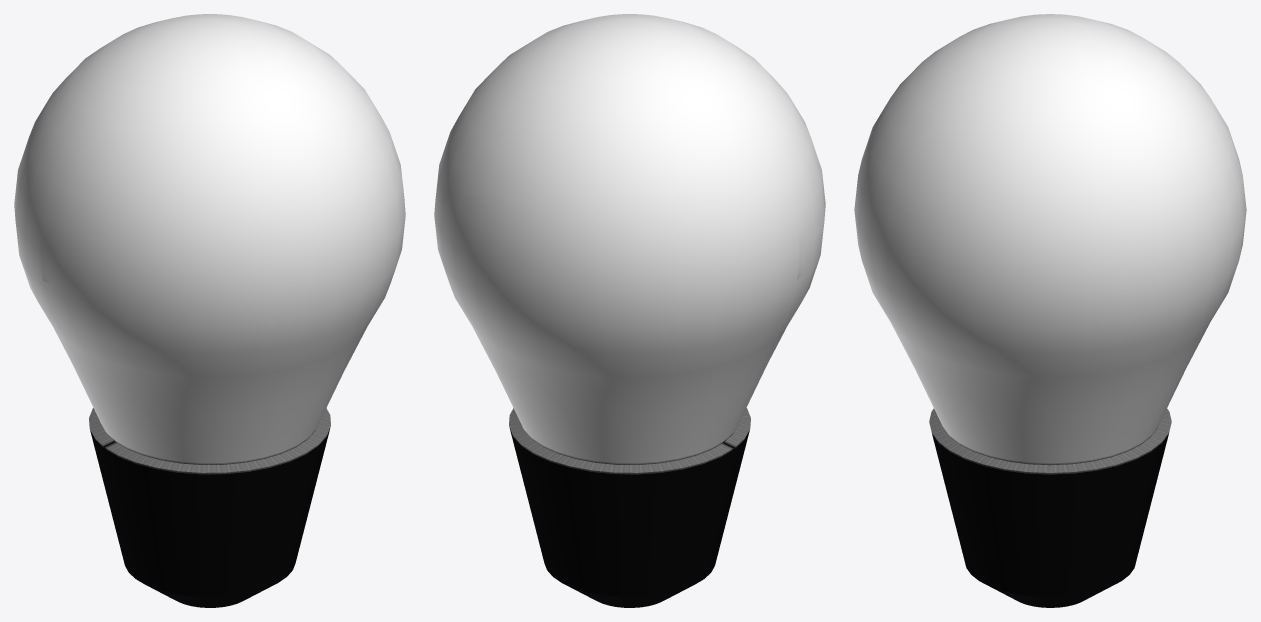
The model's file is bulb.fbx.
3 renders of one model, left to right at view 1: azimuth 30°, elevation 25°; view 2: azimuth 150°, elevation 25°; view 3: azimuth 270°, elevation 25°, orthographic.
Visible parts, largest first — view 1: Sphere; view 2: Sphere; view 3: Sphere.
Part boxes in pixels (x1=…): Sphere: x1=14, y1=14, x2=405, y2=607; Sphere: x1=434, y1=14, x2=825, y2=607; Sphere: x1=854, y1=14, x2=1246, y2=607.
Size of the model in its own units: 2 by 3.14 by 2.
Materials: 1 (1 with a texture image).
